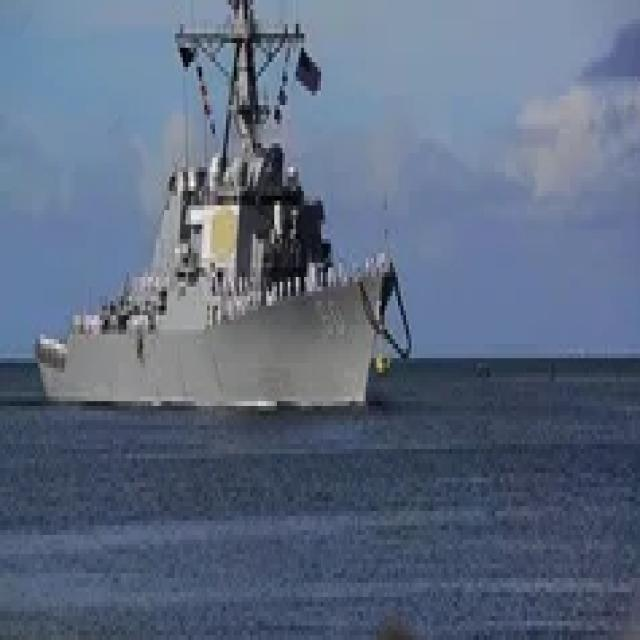navalvessels: (19, 0, 406, 420)
